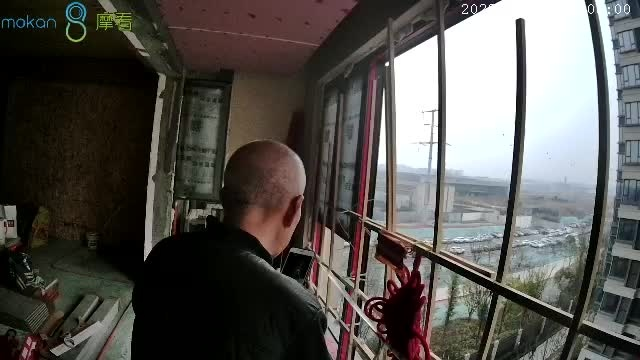people: (128, 138, 332, 360)
window: (310, 2, 640, 358)
